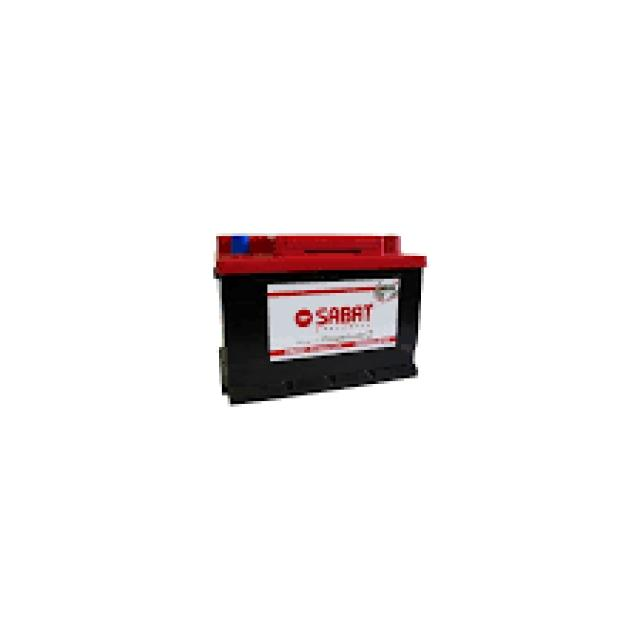non-organic waste: (211, 229, 427, 406)
